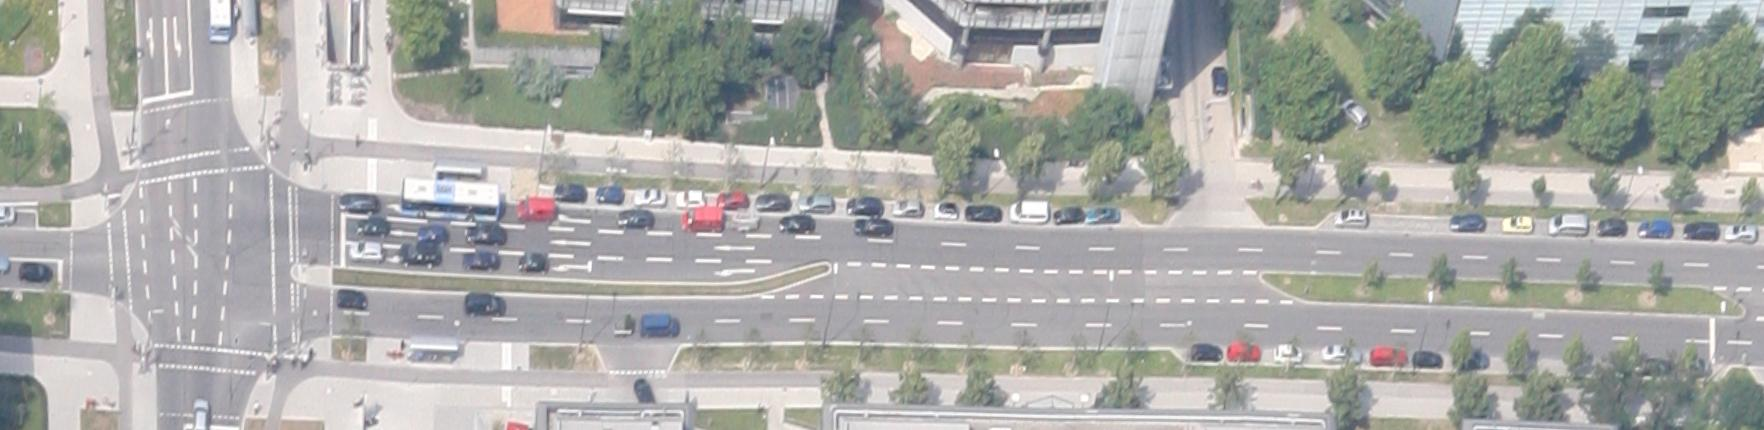car: (1338, 97, 1370, 129), (398, 242, 441, 267), (1548, 212, 1586, 238), (463, 294, 506, 316), (640, 314, 681, 338), (682, 208, 721, 232), (517, 198, 555, 222), (337, 192, 379, 213), (1010, 200, 1047, 223), (853, 216, 892, 236), (465, 225, 506, 244), (462, 250, 499, 270), (1683, 221, 1719, 241), (847, 196, 883, 216), (357, 216, 390, 238), (632, 377, 656, 407), (778, 214, 816, 233), (1322, 344, 1361, 362), (336, 288, 368, 311), (18, 262, 53, 283), (350, 241, 382, 262), (616, 209, 652, 229), (1370, 348, 1406, 366), (1449, 214, 1485, 232), (1334, 208, 1368, 227), (799, 194, 832, 213), (1190, 341, 1222, 361), (1086, 206, 1120, 224), (1637, 220, 1671, 238), (1725, 223, 1756, 242), (555, 182, 586, 201), (1596, 217, 1626, 238), (717, 191, 747, 210), (517, 256, 549, 274), (1228, 344, 1260, 362), (757, 194, 789, 212), (965, 206, 1000, 222), (1502, 215, 1532, 233), (634, 188, 665, 206), (418, 224, 447, 243), (595, 186, 623, 205), (1273, 344, 1303, 362), (1413, 350, 1442, 368), (1054, 206, 1083, 224), (893, 199, 922, 217), (676, 189, 704, 207), (1212, 66, 1228, 96), (730, 213, 757, 231), (933, 201, 958, 220), (613, 317, 636, 335)
